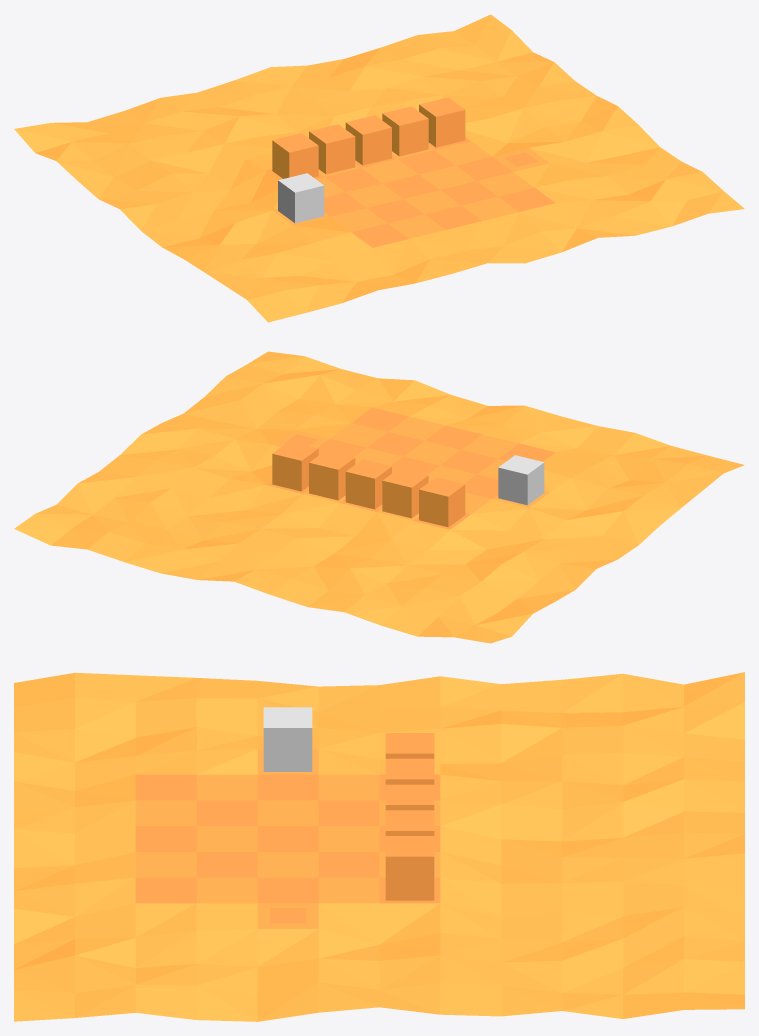
The model's file is Level6.dae.
3 views of the same model, one above another, from view 1: azimuth 30°, elevation 25°; view 2: azimuth 150°, elevation 25°; view 3: azimuth 270°, elevation 25° (orthographic). The views are drawn at different scales.
Parts seen in each view (by area): view 1: surface, Blocky, Enemy0, Enemy1, Enemy4, Enemy2, Enemy3; view 2: surface, Blocky, Enemy0, Enemy2, Enemy1, Enemy3, Enemy4; view 3: surface, Blocky, Enemy4, Enemy1, Enemy2, Enemy0, Enemy3.
Part boxes in pixels (x1,y1,x2,y2): surface: (14, 14, 744, 322); Blocky: (278, 173, 324, 223); Enemy0: (272, 133, 318, 178); Enemy1: (309, 124, 355, 174); Enemy4: (419, 97, 465, 147); Enemy2: (345, 115, 391, 165); Enemy3: (382, 106, 428, 156); surface: (14, 351, 744, 643); Blocky: (498, 455, 544, 505); Enemy0: (419, 477, 465, 527); Enemy2: (345, 459, 391, 509); Enemy1: (382, 468, 428, 518); Enemy3: (309, 450, 355, 500); Enemy4: (272, 441, 318, 491); surface: (14, 672, 744, 1021); Blocky: (263, 707, 312, 771); Enemy4: (385, 836, 434, 900); Enemy1: (385, 758, 434, 784); Enemy2: (385, 784, 434, 810); Enemy0: (385, 733, 434, 758); Enemy3: (385, 810, 434, 835).
Bounding box in the file's own units: 13 × 12 × 1.1.
